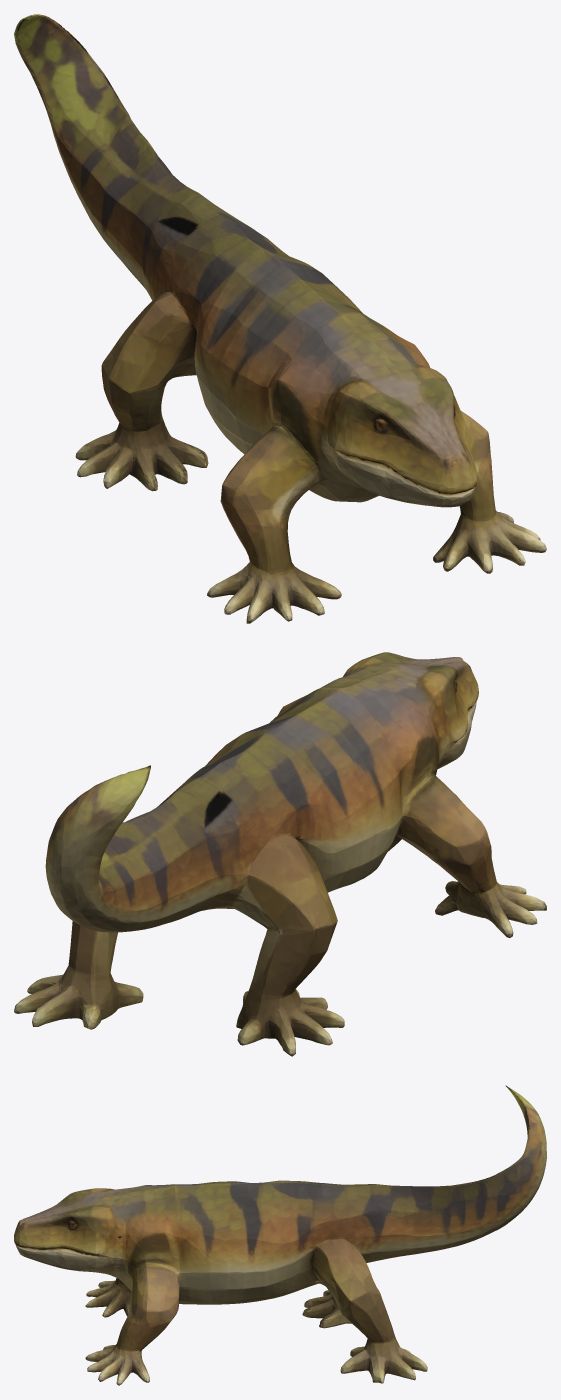
3 renders of one model, top to bottom at view 1: azimuth 30°, elevation 25°; view 2: azimuth 150°, elevation 25°; view 3: azimuth 270°, elevation 25°, orthographic. The views are drawn at different scales.
Visible parts, largest first — view 1: world; view 2: world; view 3: world.
Part boxes in pixels (box(x1,y1,x2,y2)): world: box(14, 14, 546, 623); world: box(14, 652, 546, 1056); world: box(14, 1085, 546, 1385).
Size of the model in its own units: 0.9737 by 1.07 by 2.2.
Materials: 1 (1 with a texture image).
